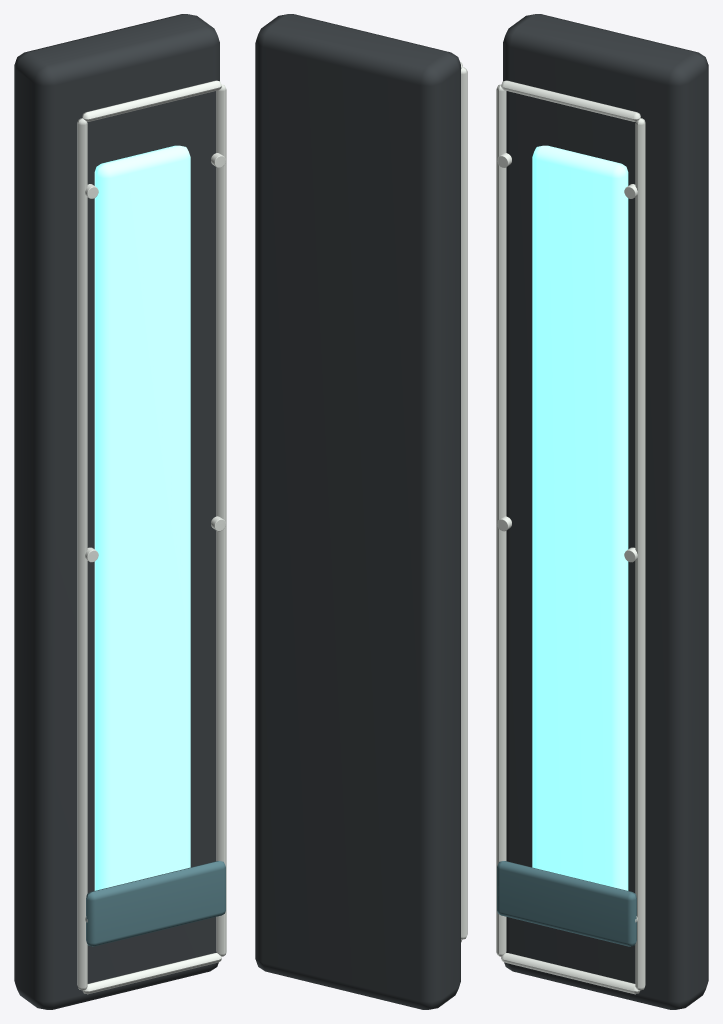
The model's file is hp_switch_state_light_cyan.glb.
3 views of the same model, side by side, from view 1: azimuth 30°, elevation 25°; view 2: azimuth 150°, elevation 25°; view 3: azimuth 330°, elevation 25° (orthographic).
Visible parts, largest first — view 1: switch_state_light_cyan_back_rail, switch_state_light_cyan_light_strip, switch_state_light_cyan_light_trim_trim_left, switch_state_light_cyan_light_trim_trim_right, switch_state_light_cyan_state_light_back_color_art_color_blo, switch_state_light_cyan_light_trim_trim_top, switch_state_light_cyan_light_trim_trim_bottom; view 2: switch_state_light_cyan_back_rail, switch_state_light_cyan_light_trim_trim_left; view 3: switch_state_light_cyan_back_rail, switch_state_light_cyan_light_strip, switch_state_light_cyan_light_trim_trim_right, switch_state_light_cyan_light_trim_trim_left, switch_state_light_cyan_state_light_back_color_art_color_blo, switch_state_light_cyan_light_trim_trim_top, switch_state_light_cyan_light_trim_trim_bottom.
Part boxes in pixels (bbox=[...]): switch_state_light_cyan_back_rail: bbox=[14, 14, 219, 1009]; switch_state_light_cyan_light_strip: bbox=[94, 145, 190, 890]; switch_state_light_cyan_light_trim_trim_left: bbox=[77, 118, 87, 990]; switch_state_light_cyan_light_trim_trim_right: bbox=[216, 84, 226, 956]; switch_state_light_cyan_state_light_back_color_art_color_blo: bbox=[86, 861, 225, 946]; switch_state_light_cyan_light_trim_trim_top: bbox=[82, 80, 221, 121]; switch_state_light_cyan_light_trim_trim_bottom: bbox=[82, 953, 221, 994]; switch_state_light_cyan_back_rail: bbox=[255, 14, 460, 1009]; switch_state_light_cyan_light_trim_trim_left: bbox=[461, 67, 467, 939]; switch_state_light_cyan_back_rail: bbox=[503, 14, 708, 1009]; switch_state_light_cyan_light_strip: bbox=[532, 145, 628, 890]; switch_state_light_cyan_light_trim_trim_right: bbox=[635, 118, 645, 990]; switch_state_light_cyan_light_trim_trim_left: bbox=[496, 84, 506, 956]; switch_state_light_cyan_state_light_back_color_art_color_blo: bbox=[497, 861, 636, 946]; switch_state_light_cyan_light_trim_trim_top: bbox=[501, 80, 640, 121]; switch_state_light_cyan_light_trim_trim_bottom: bbox=[501, 953, 640, 994].
Bounding box in the file's own units: 0.16 × 0.78 × 0.088.
